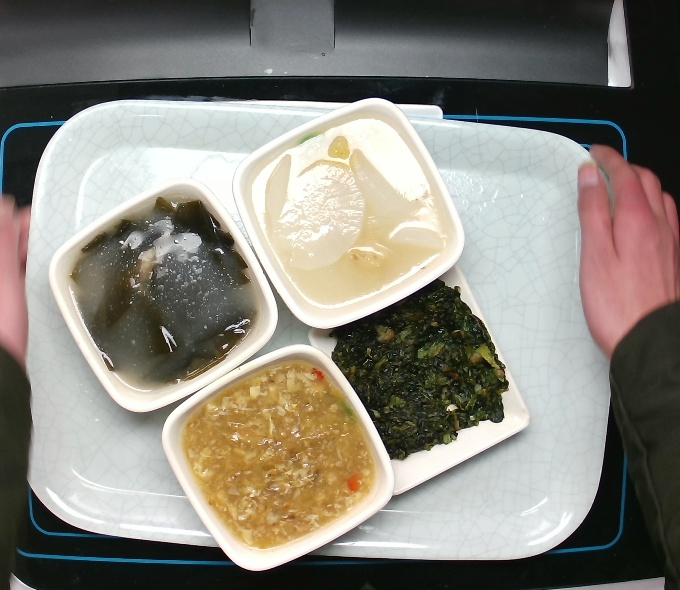wcq-HaiDaiPaiGuTang: (63, 193, 270, 395)
wcq-LuoBoYouPaoTang: (241, 112, 452, 303)
wcq-QinCaiBing: (322, 277, 512, 461)
wcq-SuanLaGeng: (188, 359, 374, 546)
